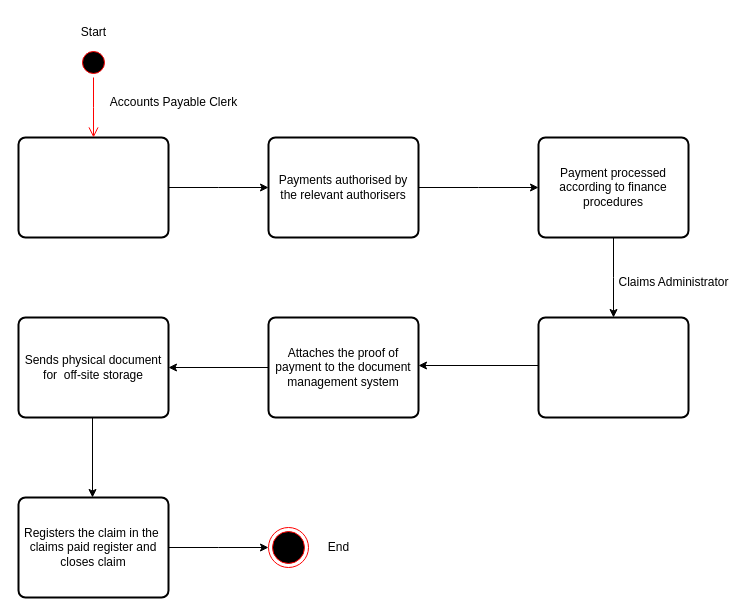
This 755x615 diagram has some shape labels left out. Each missing label, with the centre of its shape:
"Loads payment onto the online banking platform" goes at point (93, 187).
"Scans and emails proof of payment to the bank" goes at point (613, 367).
